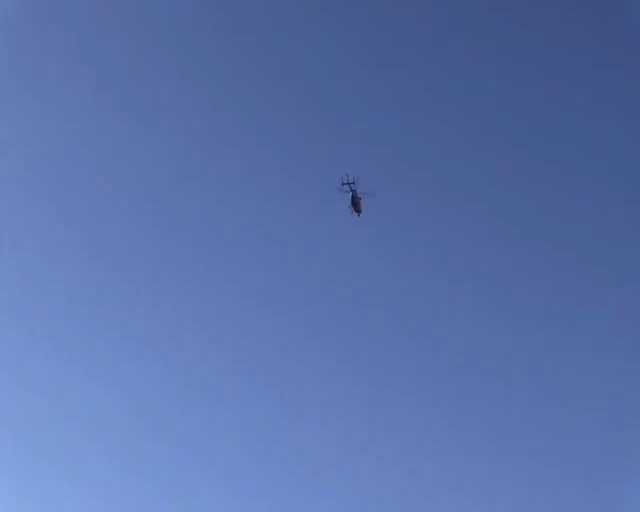HELICOPTER: (337, 172, 375, 217)
